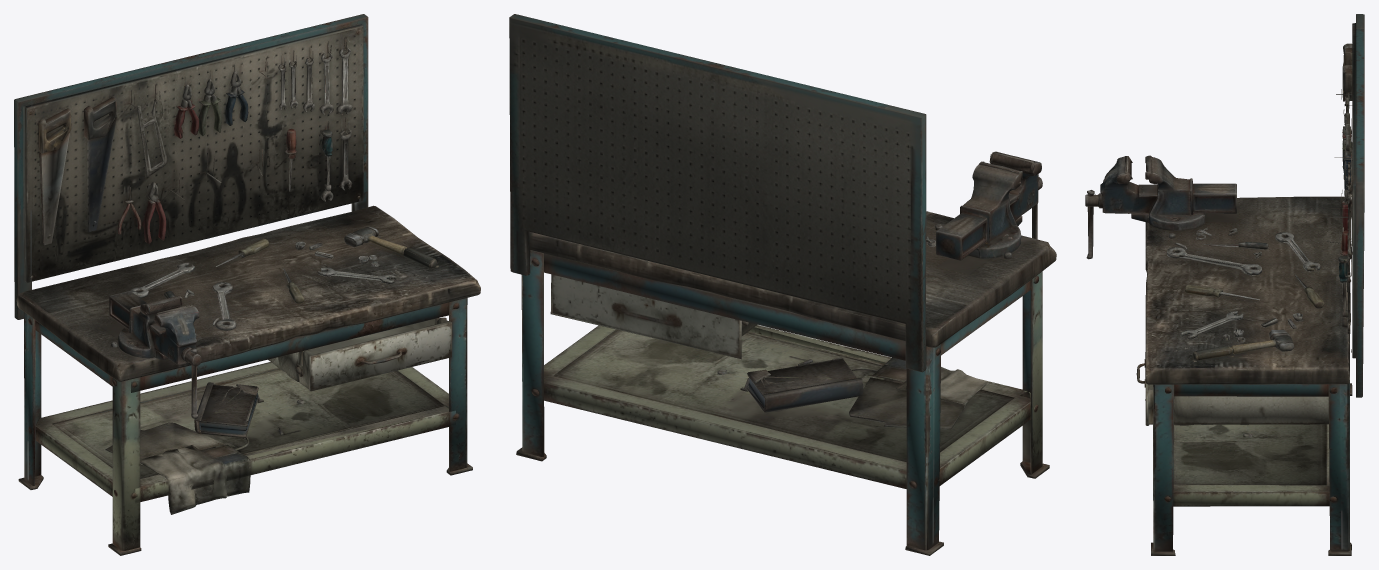
File: silo81_workbench.glb
3 renders of one model, left to right at view 1: azimuth 30°, elevation 25°; view 2: azimuth 150°, elevation 25°; view 3: azimuth 270°, elevation 25°, orthographic. The views are drawn at different scales.
Size of the model in its own units: 0.9512 by 0.9473 by 0.6436.
Materials: 1 (1 with a texture image).
